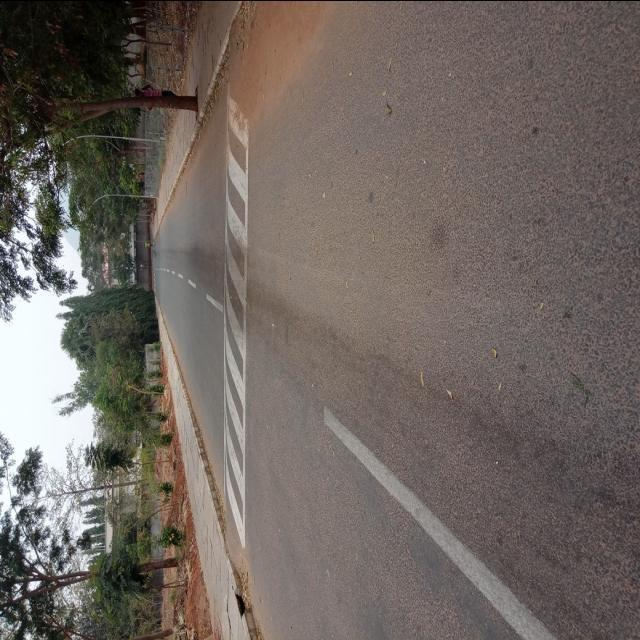speedbreaker: (218, 80, 255, 556)
